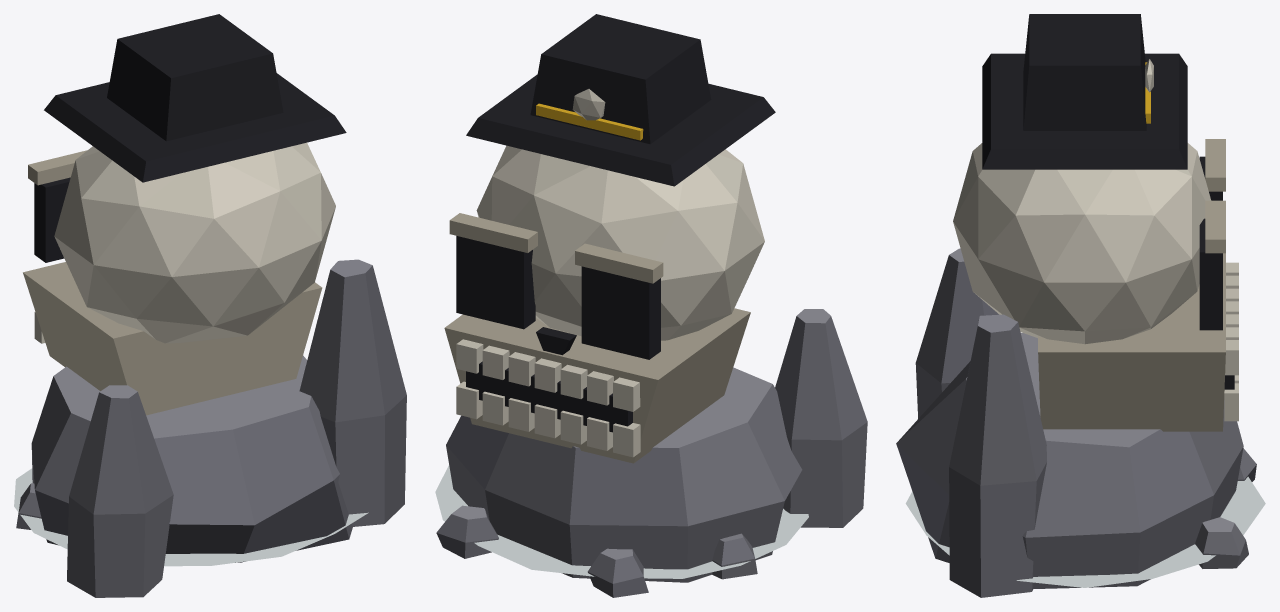
The model's file is Decor_PirateShip_SkullRock.fbx.
3 views of the same model, side by side, from view 1: azimuth 30°, elevation 25°; view 2: azimuth 150°, elevation 25°; view 3: azimuth 270°, elevation 25° (orthographic). The views are drawn at different scales.
Visible parts, largest first — view 1: SkullRock_Body; view 2: SkullRock_Body; view 3: SkullRock_Body.
Boxes of the visible parts, left/top/right/bottom form: SkullRock_Body: left=14, top=14, right=406, bottom=597; SkullRock_Body: left=435, top=14, right=867, bottom=597; SkullRock_Body: left=896, top=14, right=1265, bottom=597.
Bounding box in the file's own units: 13.2 × 17.1 × 12.
